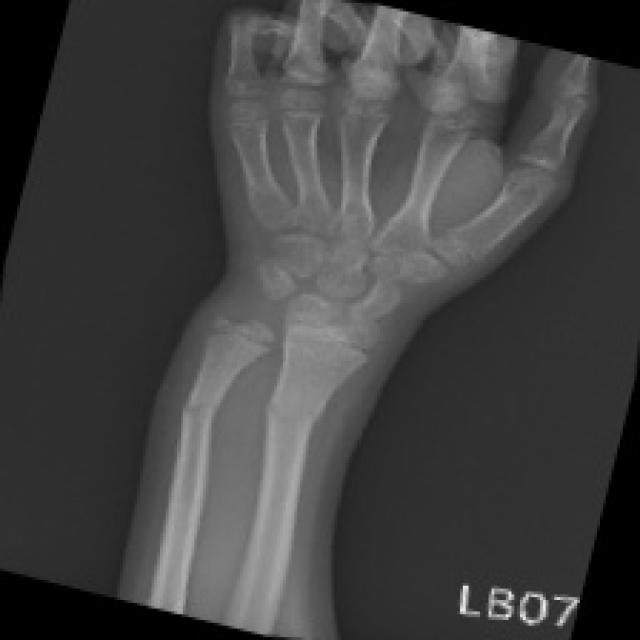fracture: (170, 368, 250, 461), (262, 401, 334, 465)
